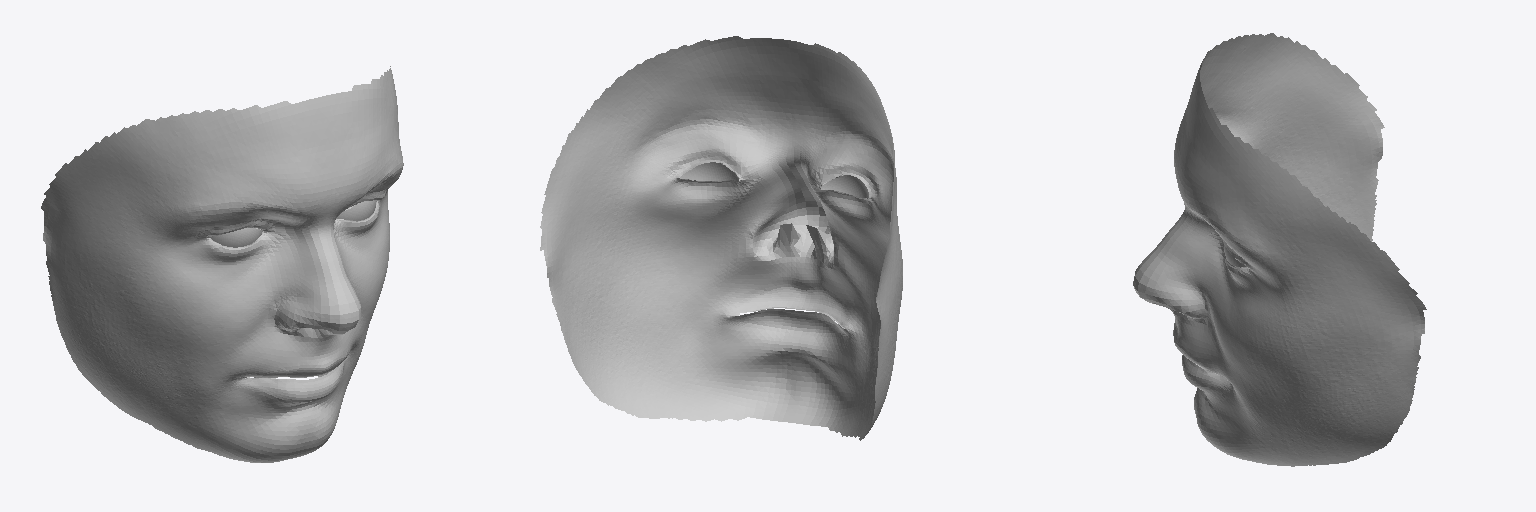
File: godel02.obj
3 views of the same model, side by side, from view 1: azimuth 30°, elevation 25°; view 2: azimuth 150°, elevation 25°; view 3: azimuth 270°, elevation 25° (orthographic).
Size of the model in its own units: 1.56 by 1.69 by 1.21.